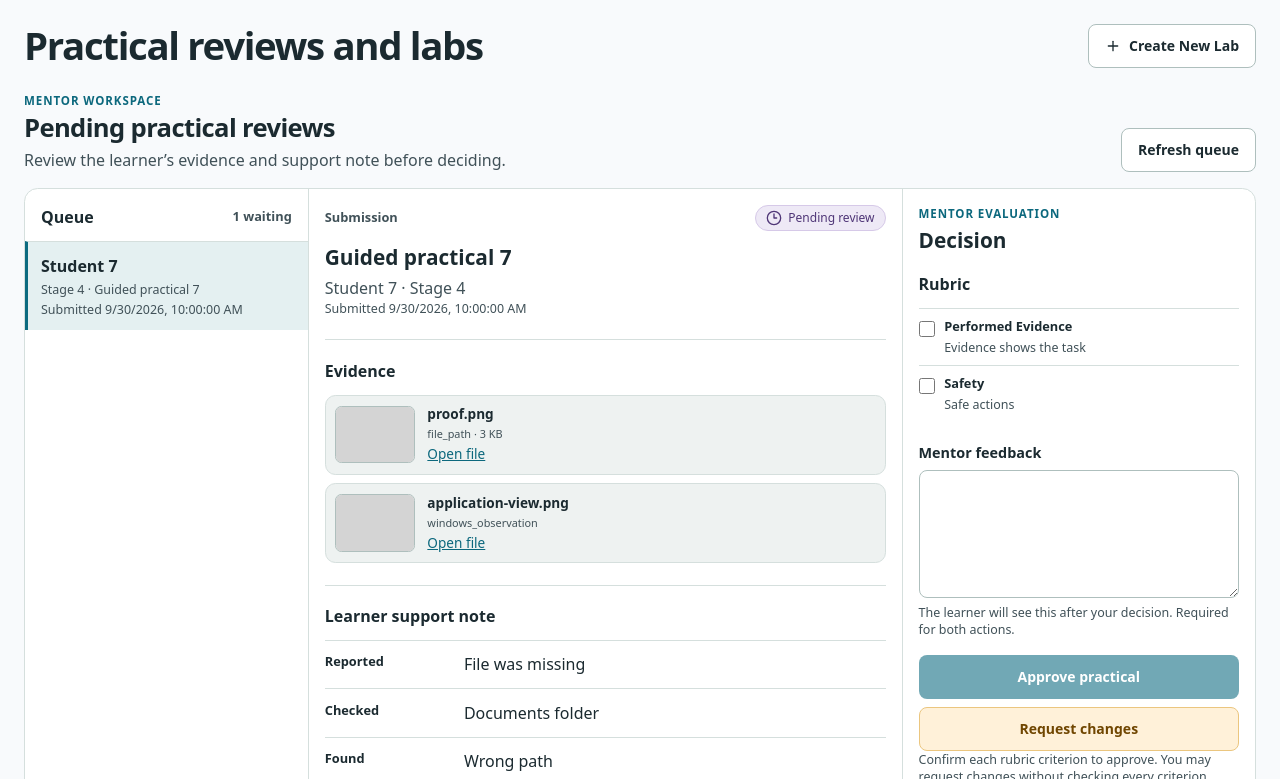
Scenario: mentor practical review workspace › requires each server rubric criterion for approval and does not claim mastery
Expected: the heading "Guided practical 7" is shown, [325,243,512,271]
Type "Evidence is clear" into the text box labelled "Mentor feedback" at (1079, 534), box [918,470,1239,598]
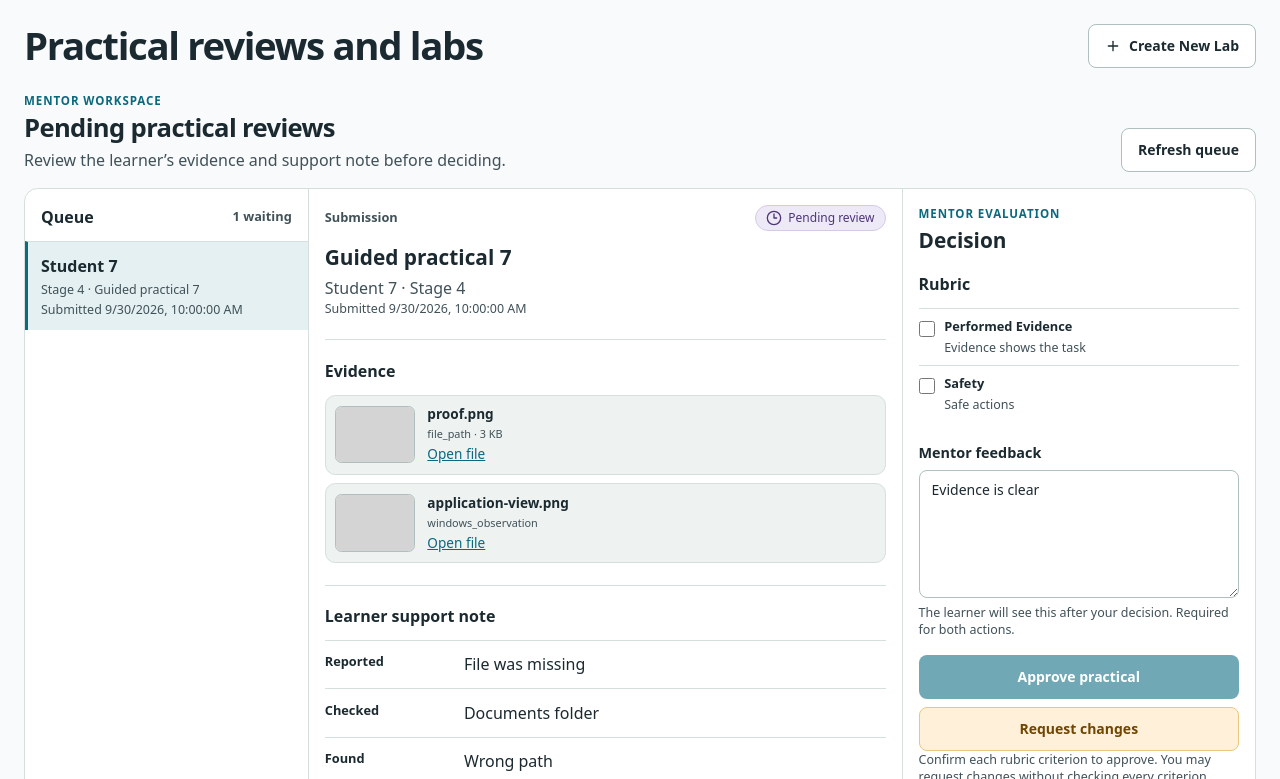
Click the checkbox labelled "performed evidence Evidence shows the task" at (926, 329), box [918,321,934,337]
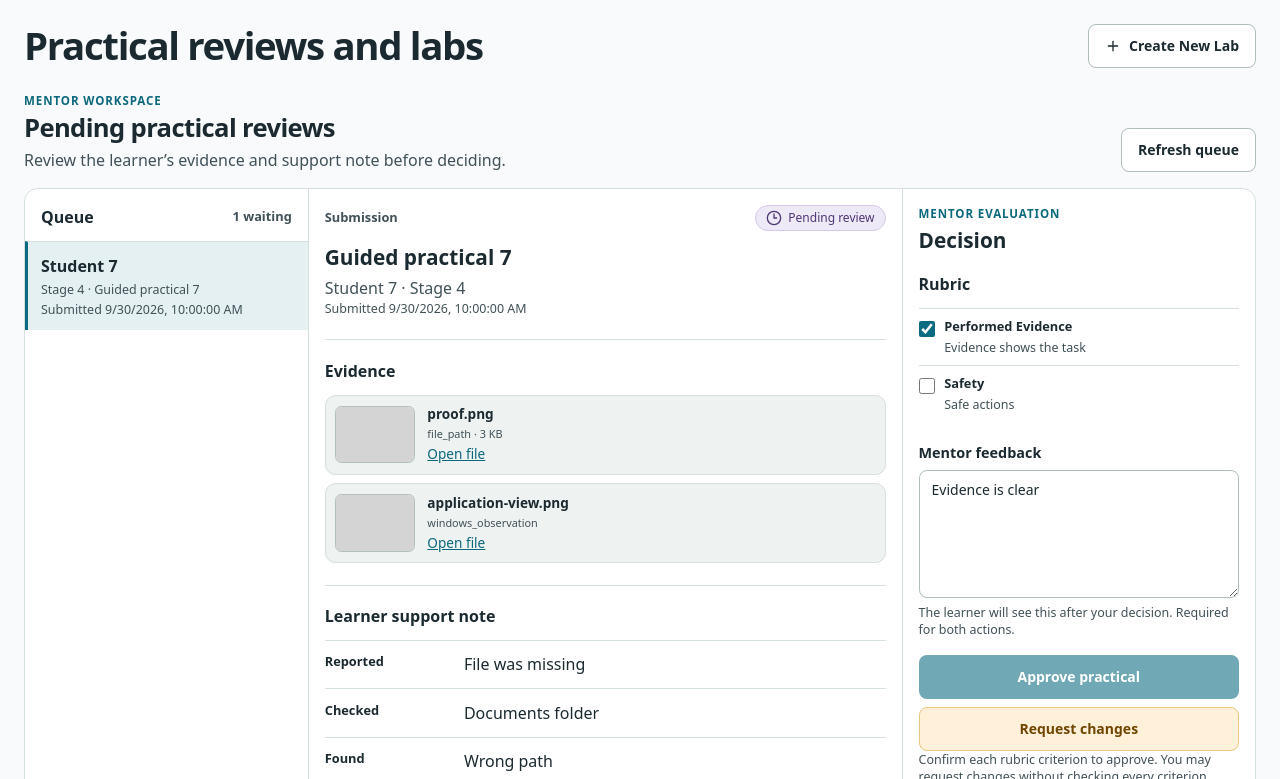
Expected: the button "Approve practical" is disabled, [918,655,1239,699]
Click the checkbox labelled "safety Safe actions" at (926, 386), box [918,378,934,394]
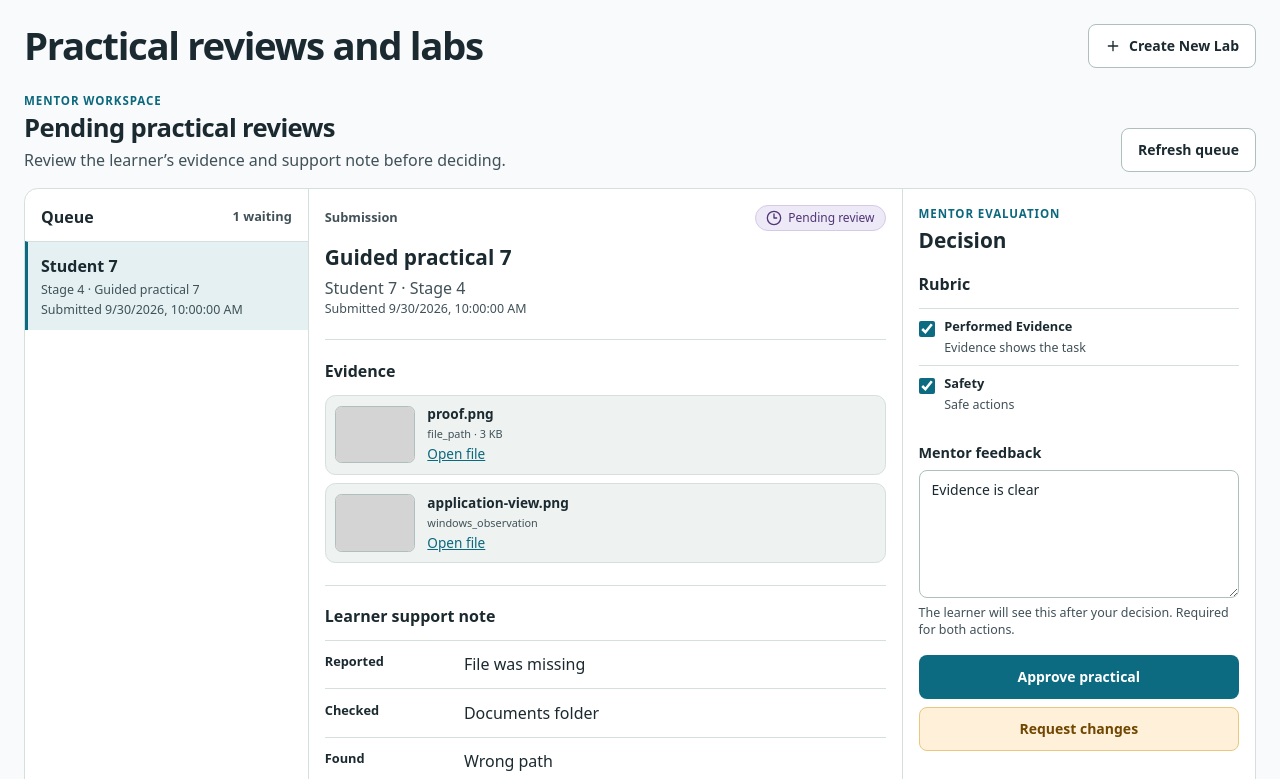
Click the button "Approve practical" at (1079, 677), box [918,655,1239,699]
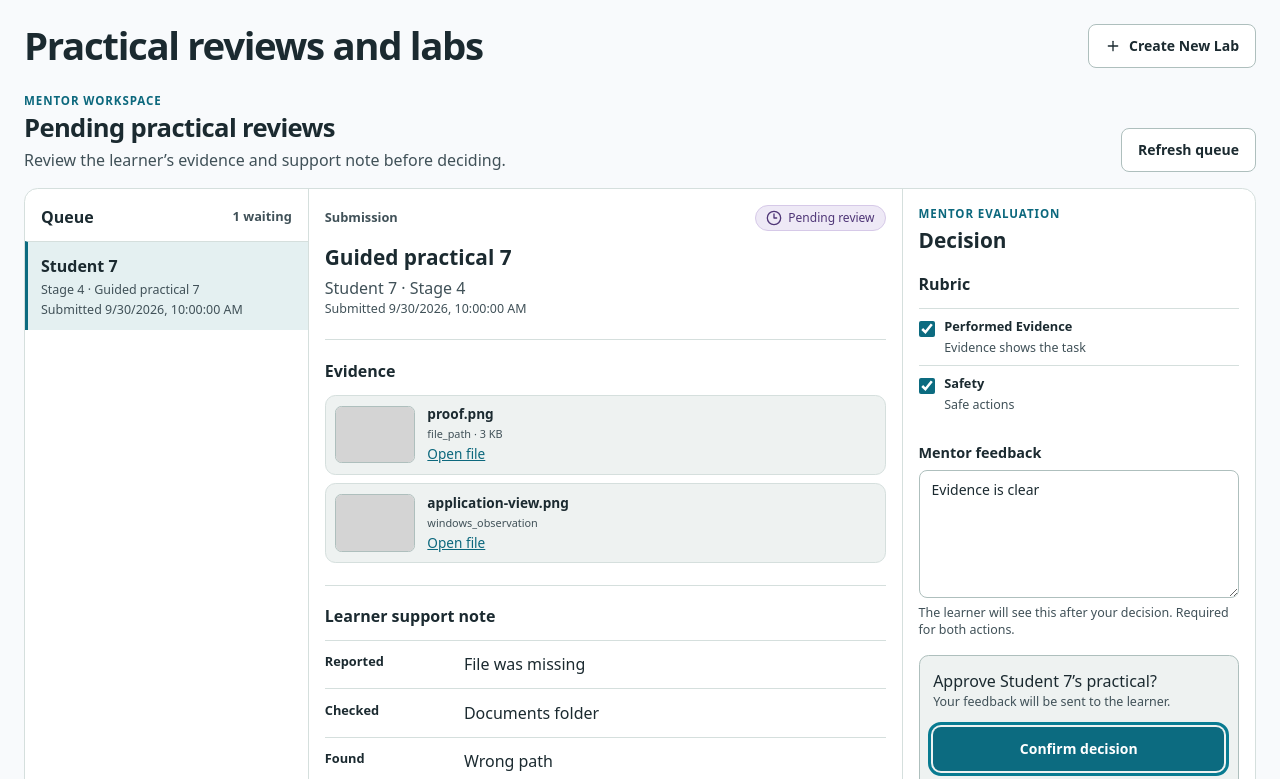
Click the button "Confirm decision" at (1079, 749), box [933,727,1224,771]
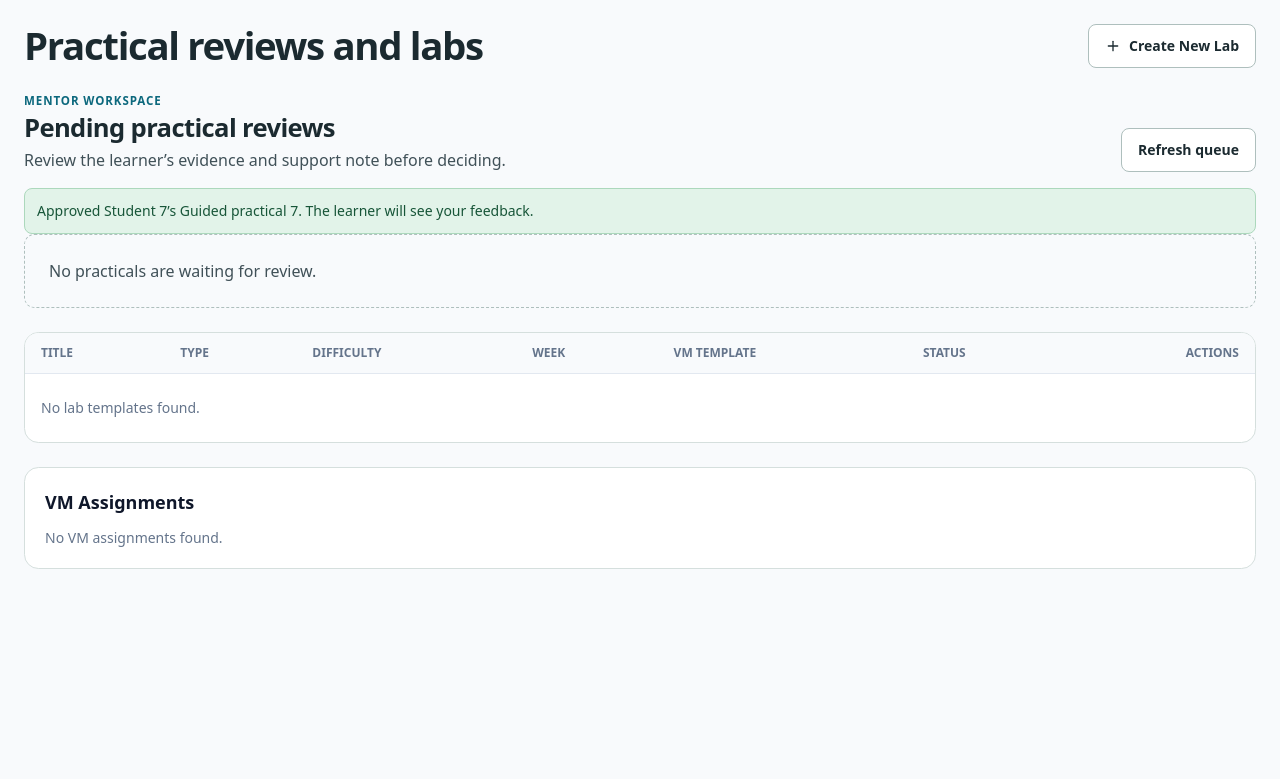
Expected: the message shows "Approved Student 7’s Guided practical 7", [37,201,534,220]
